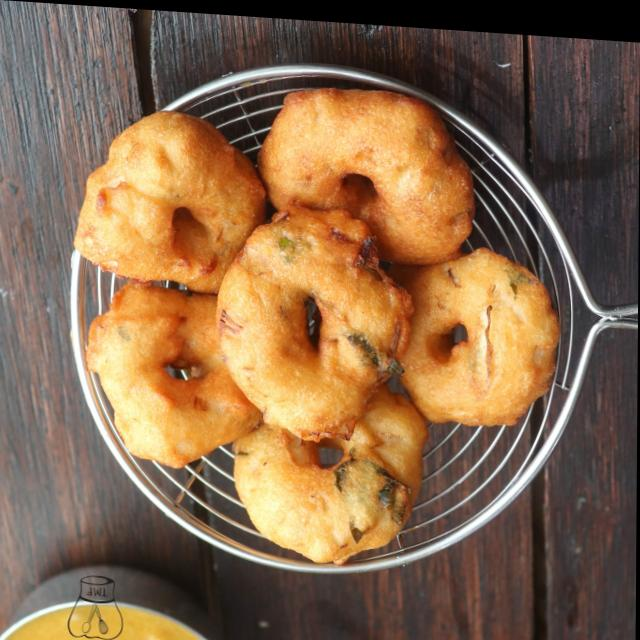VADA: (81, 89, 565, 572)
